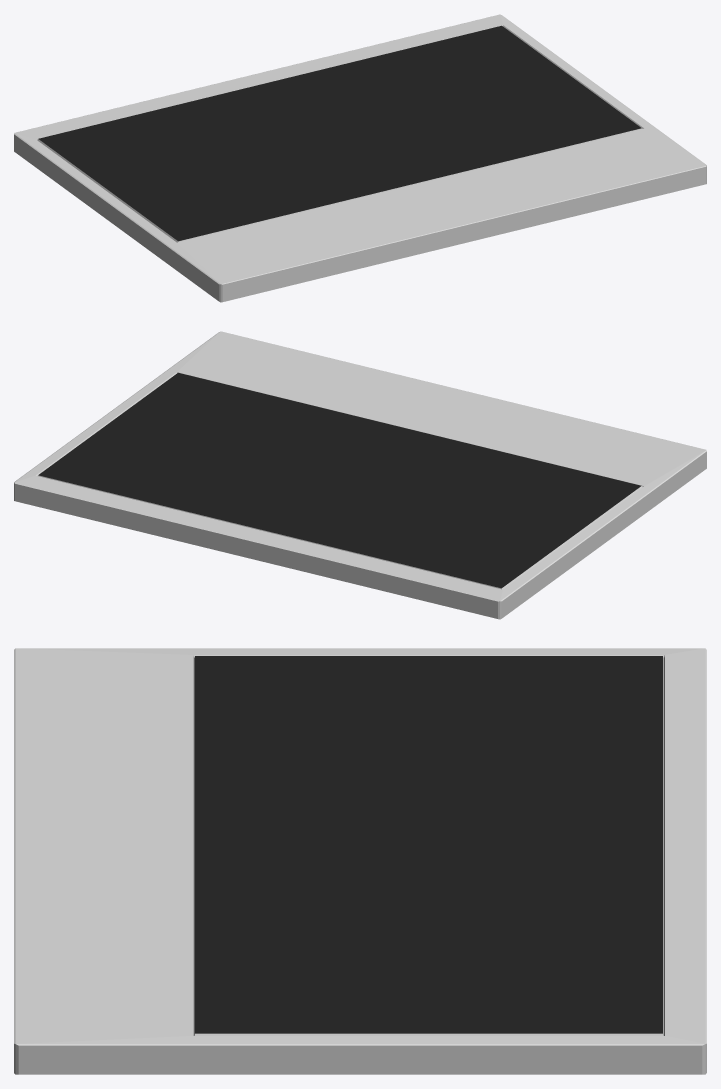
The picture shows the model from 3 angles, top to bottom: view 1: azimuth 30°, elevation 25°; view 2: azimuth 150°, elevation 25°; view 3: azimuth 270°, elevation 25°; orthographic projection. The views are drawn at different scales.
Visible parts, largest first — view 1: Plane; view 2: Plane; view 3: Plane.
Boxes of the visible parts, <box> form: Plane: <box>14,14,706,302</box>; Plane: <box>14,331,706,619</box>; Plane: <box>14,648,706,1074</box>.
Bounding box in the file's own units: 56.67 × 2.12 × 41.76.
Materials: 2 (1 with a texture image).
